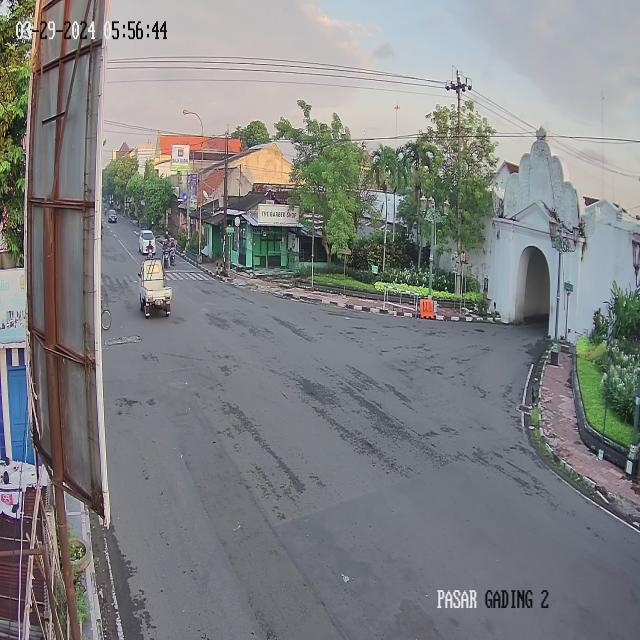car: (139, 230, 157, 255), (108, 208, 117, 223)
motorcycle: (162, 238, 169, 266), (170, 237, 177, 264), (147, 239, 154, 258), (105, 204, 107, 215)
truck: (139, 257, 171, 317)
